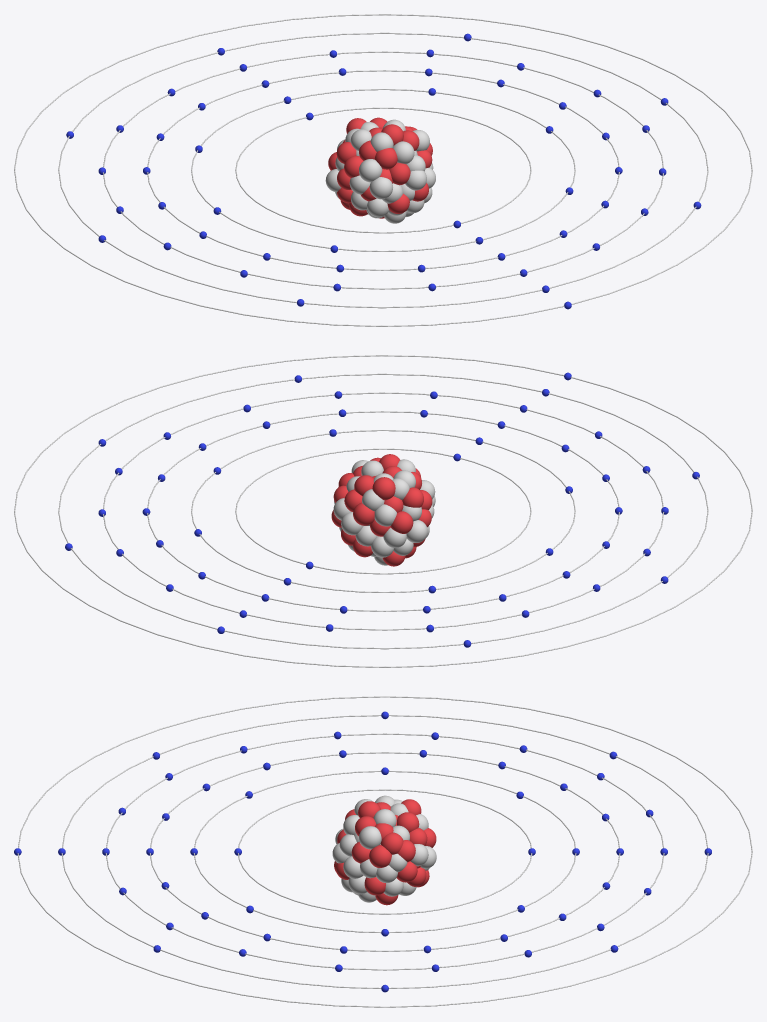
Rendered from Caesium.glb.
3 renders of one model, top to bottom at view 1: azimuth 30°, elevation 25°; view 2: azimuth 150°, elevation 25°; view 3: azimuth 270°, elevation 25°, orthographic.
Visible parts, largest first — view 1: P-Schale, O-Schale, N-Schale, M-Schale, L-Schale, K-Schale; view 2: P-Schale, O-Schale, N-Schale, M-Schale, L-Schale, K-Schale; view 3: P-Schale, O-Schale, N-Schale, M-Schale, L-Schale, K-Schale.
Boxes of the visible parts, x1,y1,x2,y2 form: P-Schale: [14, 14, 752, 326]; O-Schale: [58, 32, 708, 308]; N-Schale: [103, 51, 663, 289]; M-Schale: [147, 70, 619, 270]; L-Schale: [191, 89, 575, 251]; K-Schale: [235, 107, 531, 233]; P-Schale: [14, 355, 752, 667]; O-Schale: [58, 373, 708, 649]; N-Schale: [103, 392, 664, 630]; M-Schale: [147, 411, 619, 611]; L-Schale: [191, 430, 575, 592]; K-Schale: [235, 448, 531, 574]; P-Schale: [17, 696, 752, 1007]; O-Schale: [61, 715, 708, 988]; N-Schale: [105, 733, 664, 970]; M-Schale: [149, 752, 620, 951]; L-Schale: [193, 770, 576, 933]; K-Schale: [238, 789, 532, 914].
Bounding box in the file's own units: 25.04 × 3.6 × 25.15.
